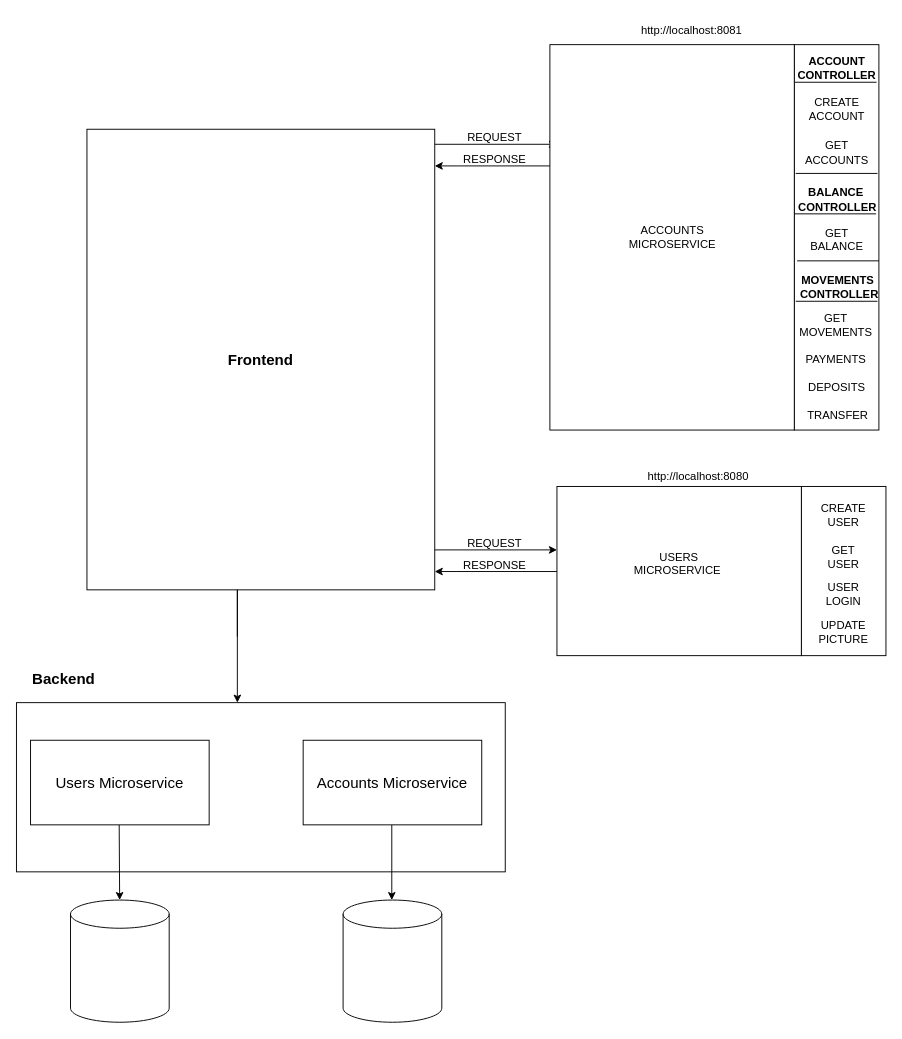
Some shapes in this 902 by 1039 pixel diagram are drawn without their labels. The centre of each missing label's shape, as x and y in pixels:
"AccountsDB" belongs at [392,960].
"UsersDB" belongs at [119,960].
